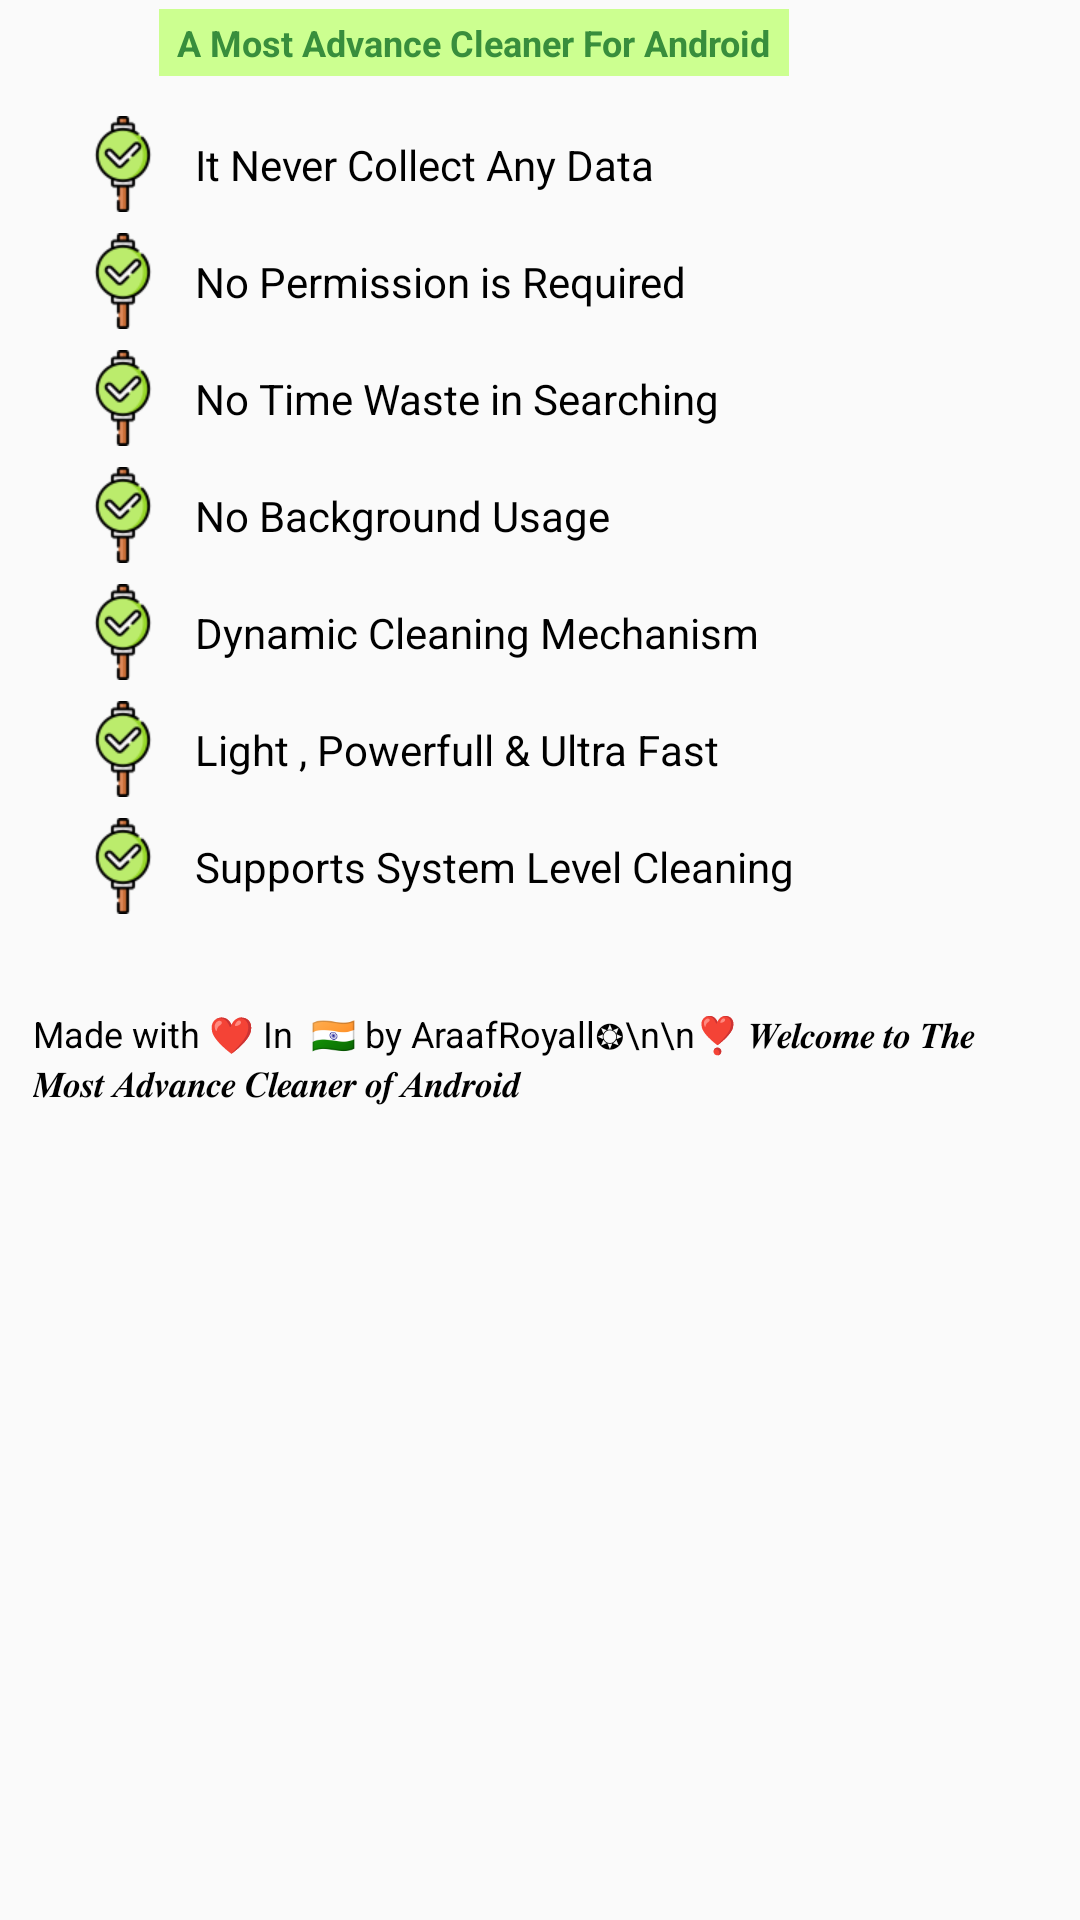

Where icons sit on this 1080 × 1920 app screen, as {"left": x1, "top": y1, "right": x2, "bottom": y2}:
tick: {"left": 95, "top": 116, "right": 151, "bottom": 212}, {"left": 95, "top": 233, "right": 151, "bottom": 329}, {"left": 95, "top": 350, "right": 151, "bottom": 446}, {"left": 95, "top": 467, "right": 151, "bottom": 563}, {"left": 95, "top": 584, "right": 151, "bottom": 680}, {"left": 95, "top": 701, "right": 151, "bottom": 797}, {"left": 95, "top": 818, "right": 151, "bottom": 914}
